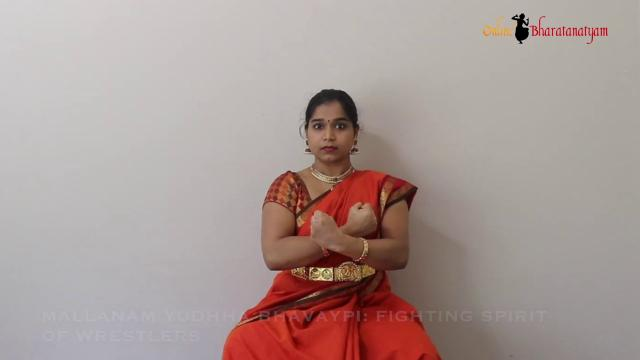mushti: (291, 204, 345, 264), (338, 194, 386, 253)
